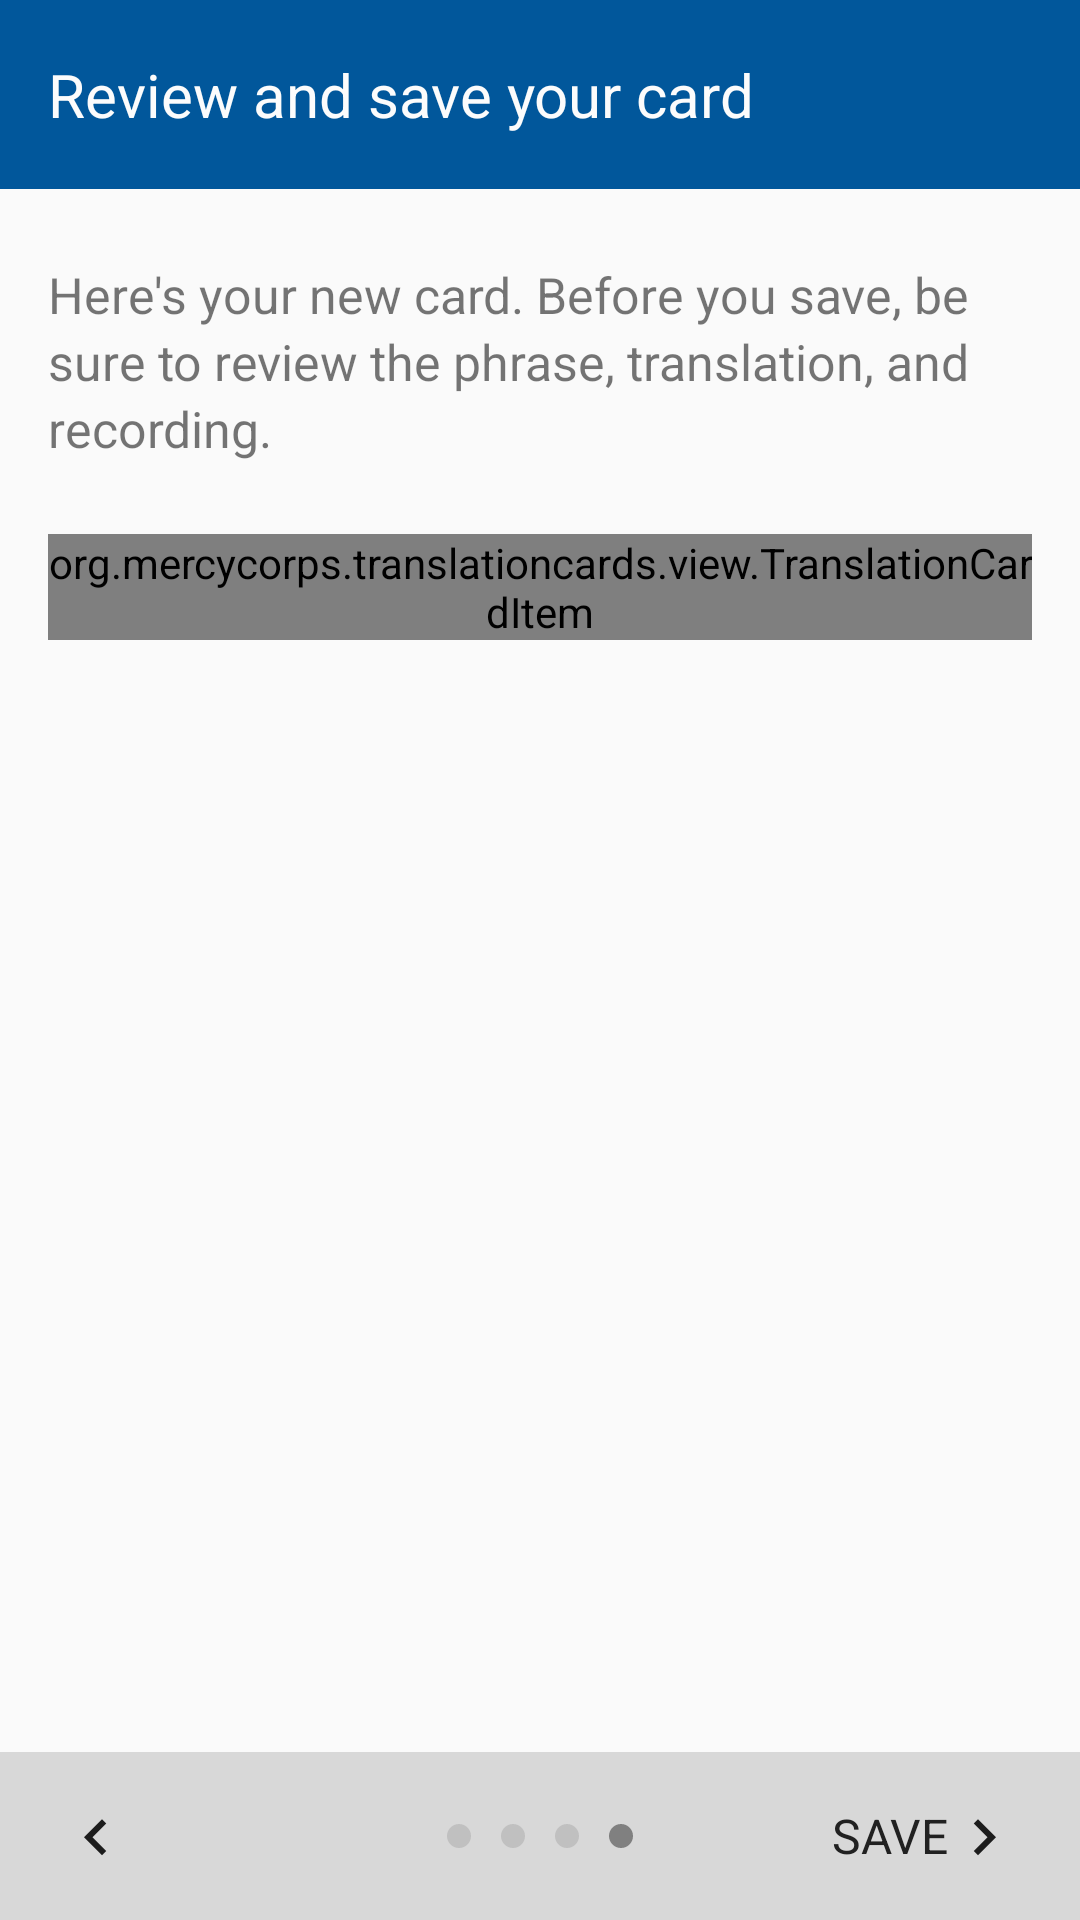

Icons on this 1080×1920 Android screen, each with its box as (x1, y1, x2, y2):
back arrow: (84, 1819, 106, 1855)
forward arrow: (974, 1819, 996, 1855)
